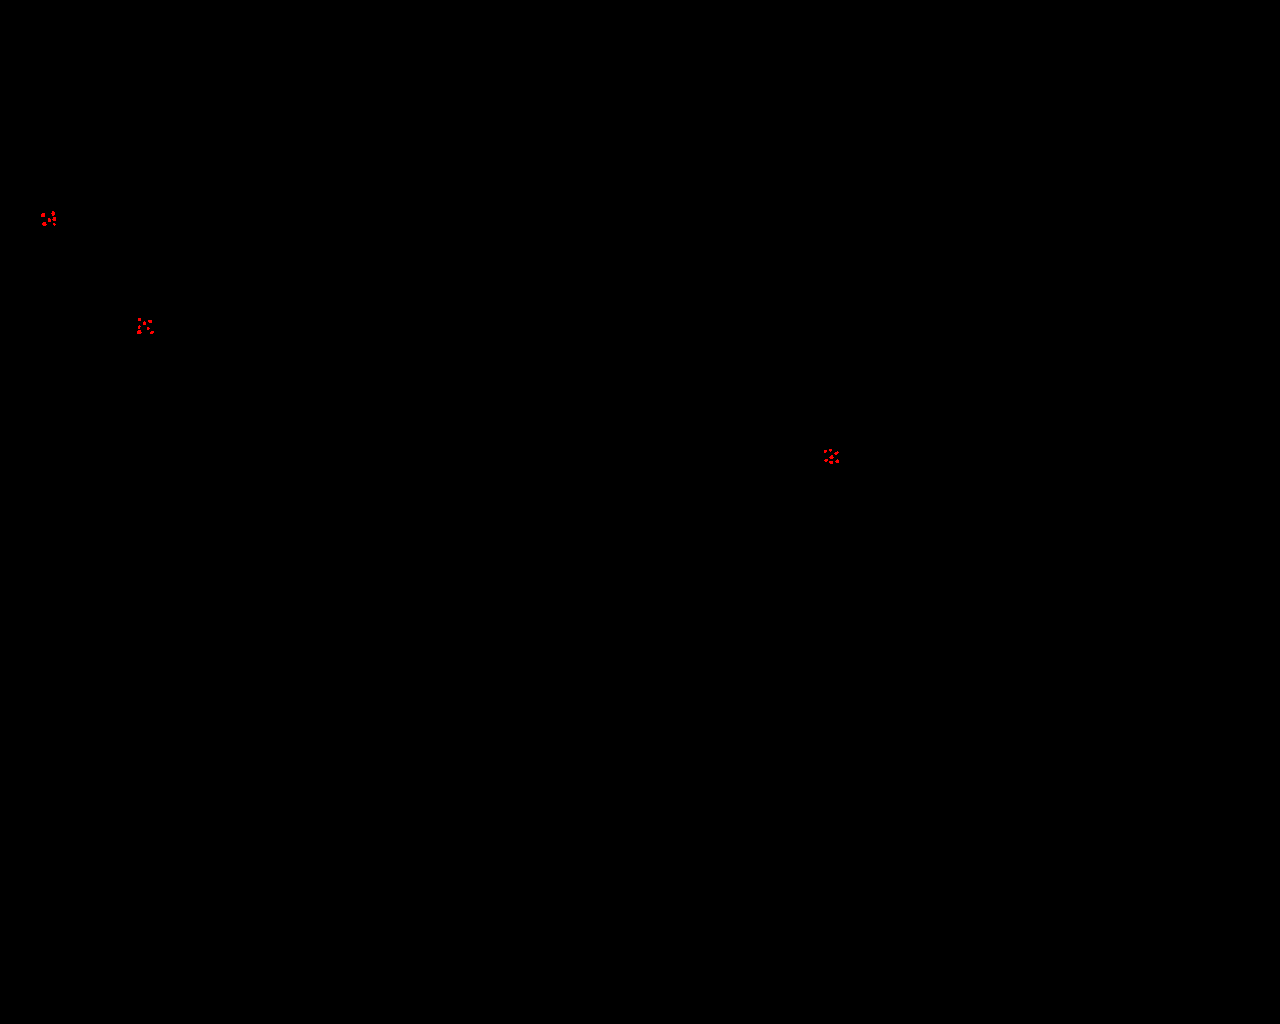Target: (51, 211, 55, 216), (42, 222, 47, 226), (137, 330, 142, 334), (829, 455, 834, 459), (41, 213, 45, 217), (52, 217, 56, 222), (835, 459, 839, 463), (834, 451, 839, 455), (143, 321, 146, 325), (138, 325, 141, 329), (829, 461, 833, 464), (48, 218, 51, 222), (53, 223, 56, 226), (138, 318, 141, 321), (148, 320, 152, 323), (147, 327, 150, 330), (150, 331, 154, 334), (829, 449, 832, 452), (824, 459, 828, 462), (824, 450, 827, 453)
